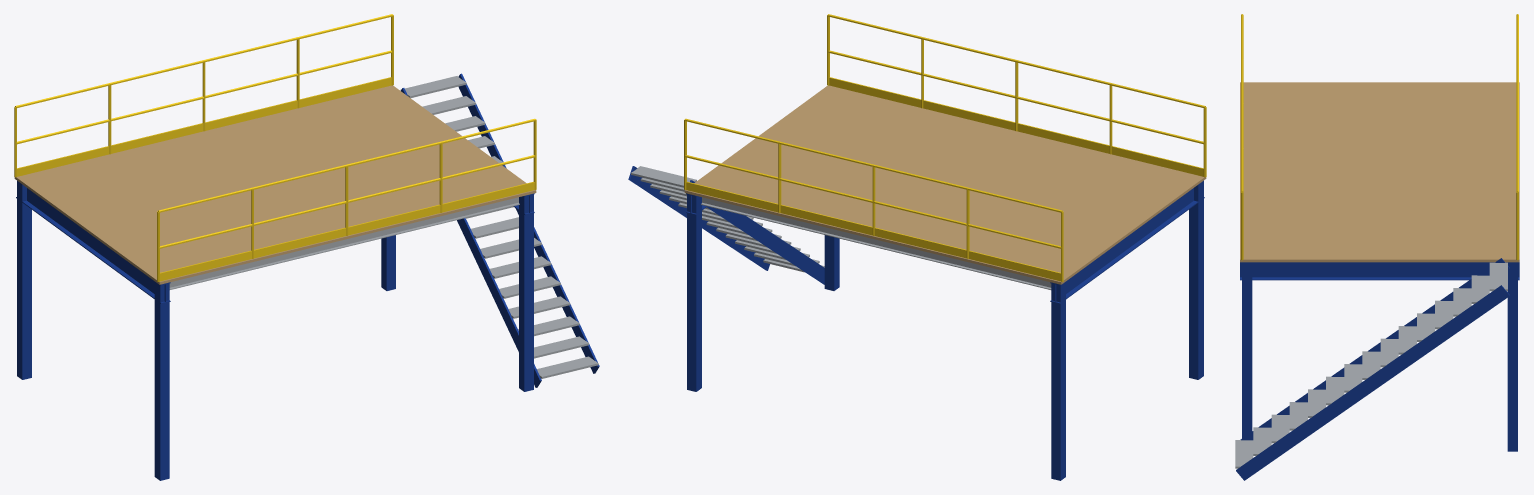
Rendered from industrial.depot.mezzanine.glb.
3 views of the same model, side by side, from view 1: azimuth 30°, elevation 25°; view 2: azimuth 150°, elevation 25°; view 3: azimuth 270°, elevation 25° (orthographic). The views are drawn at different scales.
Visible parts, largest first — view 1: deck__plywood, deck__plastic_yellow, frame__plastic_blue, stair__steel_galvanised, stair__plastic_blue, frame__steel_galvanised; view 2: deck__plywood, deck__plastic_yellow, frame__plastic_blue, stair__plastic_blue, frame__steel_galvanised, stair__steel_galvanised; view 3: deck__plywood, frame__plastic_blue, stair__steel_galvanised, stair__plastic_blue, deck__plastic_yellow.
Boxes of the visible parts, x1,y1,x2,y2 form: deck__plywood: [14, 85, 536, 284]; deck__plastic_yellow: [14, 14, 536, 281]; frame__plastic_blue: [16, 181, 534, 480]; stair__steel_galvanised: [400, 76, 598, 378]; stair__plastic_blue: [401, 73, 599, 387]; frame__steel_galvanised: [169, 197, 519, 289]; deck__plywood: [684, 85, 1206, 284]; deck__plastic_yellow: [684, 14, 1206, 281]; frame__plastic_blue: [686, 180, 1204, 480]; stair__plastic_blue: [628, 166, 824, 284]; frame__steel_galvanised: [701, 197, 1051, 289]; stair__steel_galvanised: [631, 166, 824, 272]; deck__plywood: [1240, 82, 1519, 262]; frame__plastic_blue: [1240, 262, 1519, 451]; stair__steel_galvanised: [1235, 262, 1507, 468]; stair__plastic_blue: [1236, 258, 1509, 480]; deck__plastic_yellow: [1241, 14, 1518, 260].
Bounding box in the file's own units: 6.99 × 4.12 × 4.07.
